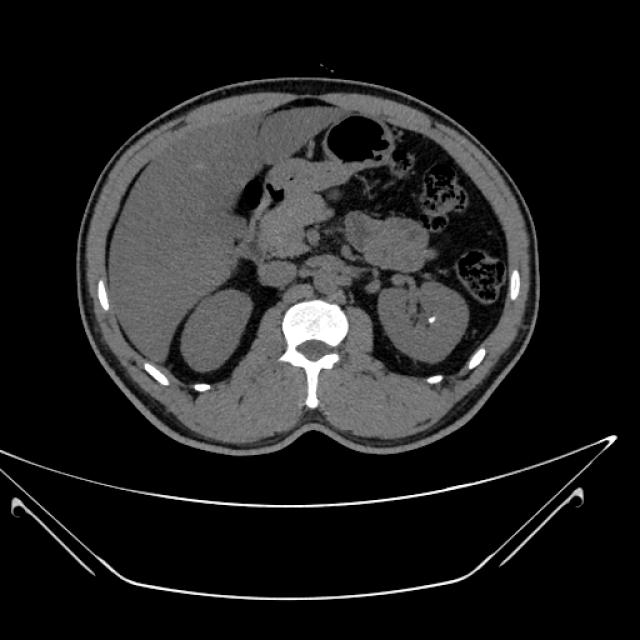kidney: (375, 275, 471, 366), (181, 287, 256, 373)
stone: (424, 312, 437, 324)
